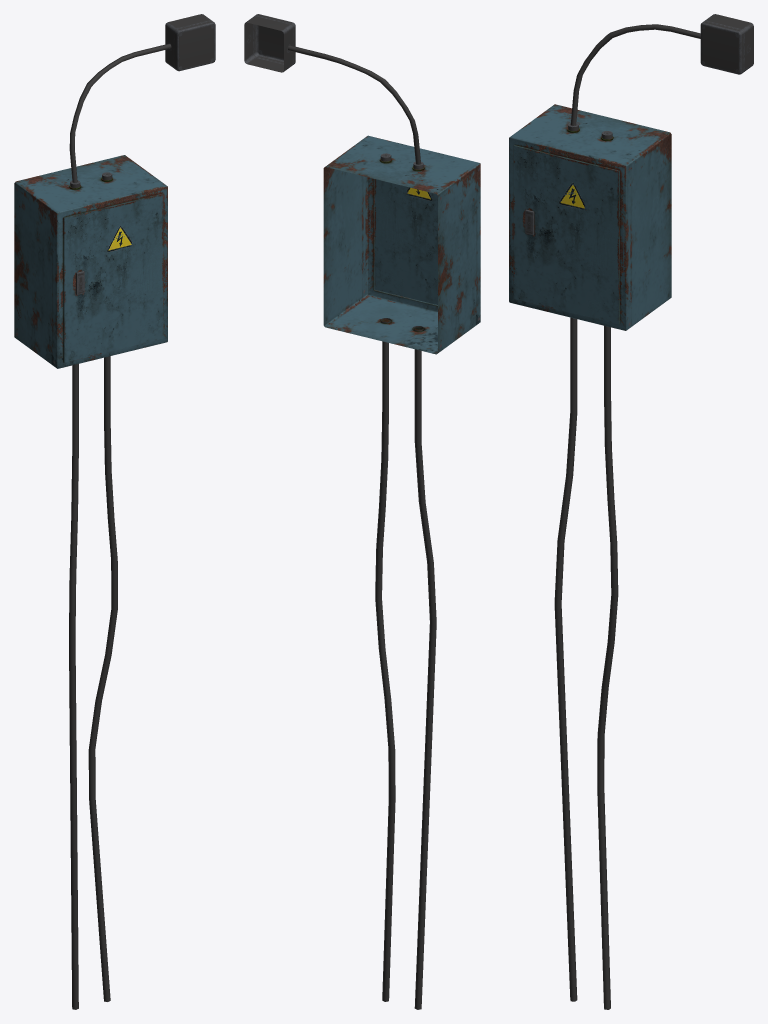
The model's file is Electr_box2A.fbx.
The picture shows the model from 3 angles, left to right: view 1: azimuth 30°, elevation 25°; view 2: azimuth 150°, elevation 25°; view 3: azimuth 330°, elevation 25°; orthographic projection. The views are drawn at different scales.
Visible parts, largest first — view 1: polySurface332; view 2: polySurface332; view 3: polySurface332.
Part boxes in pixels (box(x1,y1,x2,y2)): polySurface332: box(14, 14, 215, 1009); polySurface332: box(244, 14, 480, 1009); polySurface332: box(509, 14, 753, 1009).
Bounding box in the file's own units: 81.65 × 388 × 33.3.
